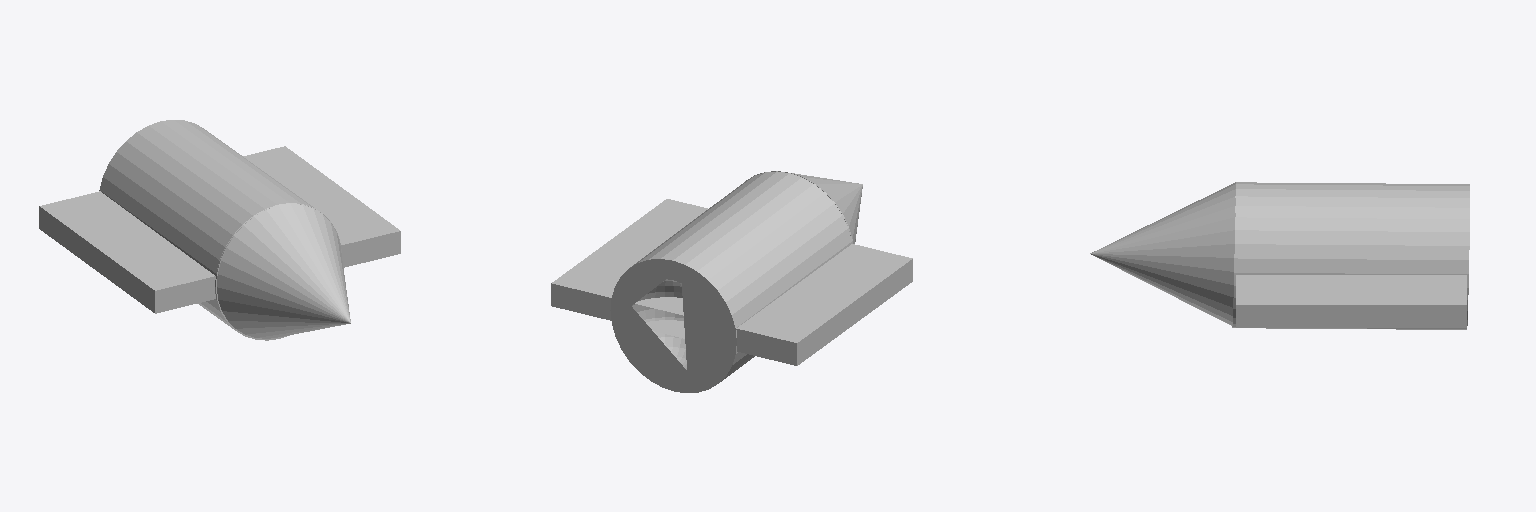
Rendered from ship.obj.
3 renders of one model, left to right at view 1: azimuth 30°, elevation 25°; view 2: azimuth 150°, elevation 25°; view 3: azimuth 270°, elevation 25°, orthographic.
Parts seen in each view (by area): view 1: Cube_Cube.001, Cylinder, Cone; view 2: Cylinder, Cube_Cube.001, Cone; view 3: Cylinder, Cube_Cube.001, Cone.
Boxes of the visible parts, x1=… form: Cube_Cube.001: x1=39, y1=146, x2=400, y2=313; Cylinder: x1=99, y1=120, x2=341, y2=340; Cone: x1=217, y1=203, x2=350, y2=338; Cylinder: x1=610, y1=171, x2=852, y2=392; Cube_Cube.001: x1=551, y1=199, x2=912, y2=365; Cone: x1=746, y1=171, x2=862, y2=243; Cylinder: x1=1232, y1=182, x2=1469, y2=329; Cube_Cube.001: x1=1236, y1=275, x2=1466, y2=327; Cone: x1=1090, y1=182, x2=1235, y2=325.
Size of the model in its own units: 3.89 by 2.03 by 5.21.